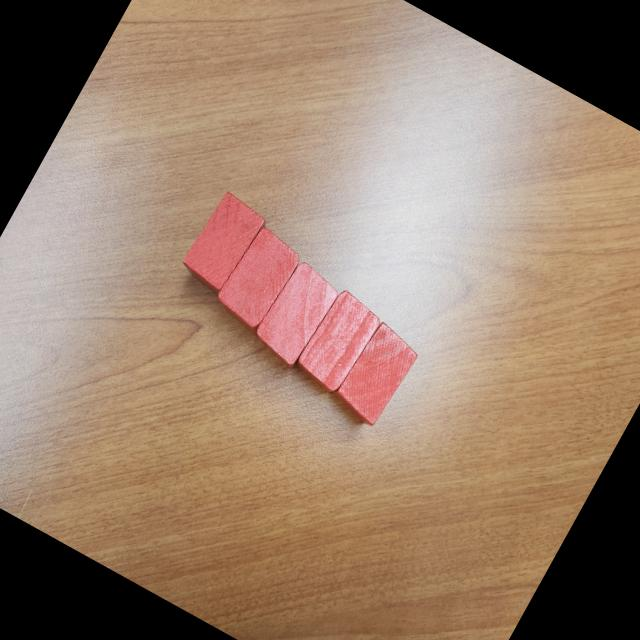red: (175, 188, 272, 300), (217, 226, 299, 336), (332, 322, 416, 425), (256, 262, 337, 366), (297, 292, 379, 393)
